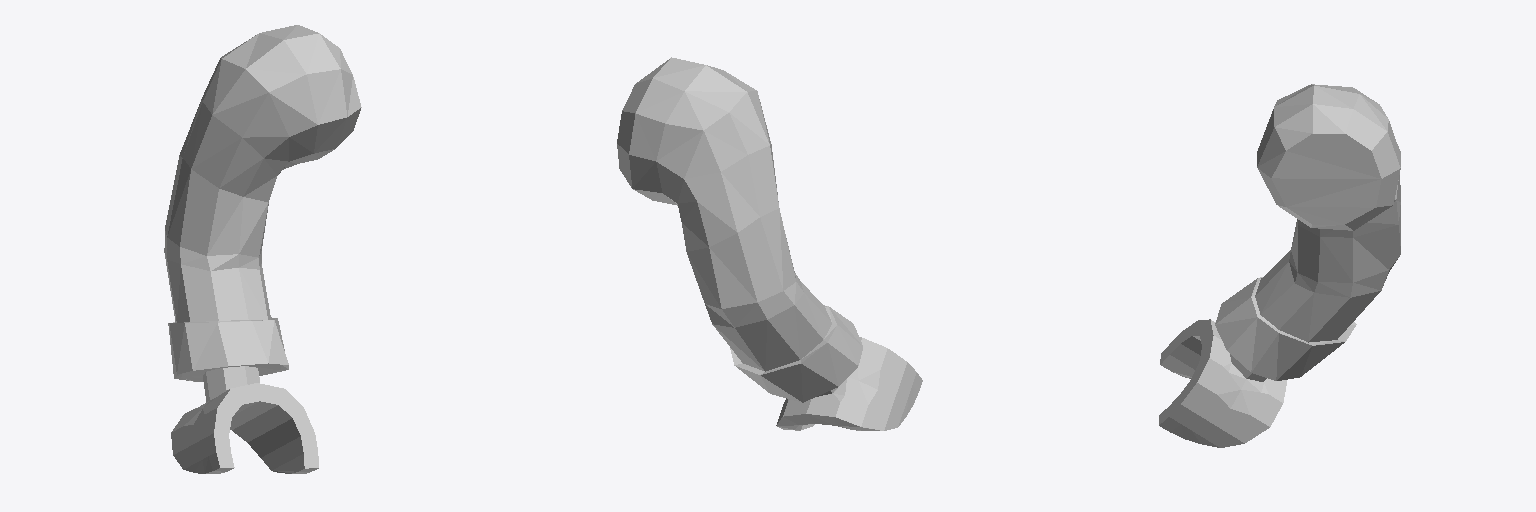
The model's file is elfo_brazo_derecho.obj.
3 renders of one model, left to right at view 1: azimuth 30°, elevation 25°; view 2: azimuth 150°, elevation 25°; view 3: azimuth 270°, elevation 25°, orthographic.
Visible parts, largest first — view 1: Mesh_Default.002_Mesh_Default.004; view 2: Mesh_Default.002_Mesh_Default.004; view 3: Mesh_Default.002_Mesh_Default.004.
Boxes of the visible parts, x1=… form: Mesh_Default.002_Mesh_Default.004: x1=164, y1=25, x2=361, y2=473; Mesh_Default.002_Mesh_Default.004: x1=617, y1=57, x2=922, y2=430; Mesh_Default.002_Mesh_Default.004: x1=1159, y1=84, x2=1400, y2=447.
Size of the model in its own units: 1.1 by 2 by 1.14.